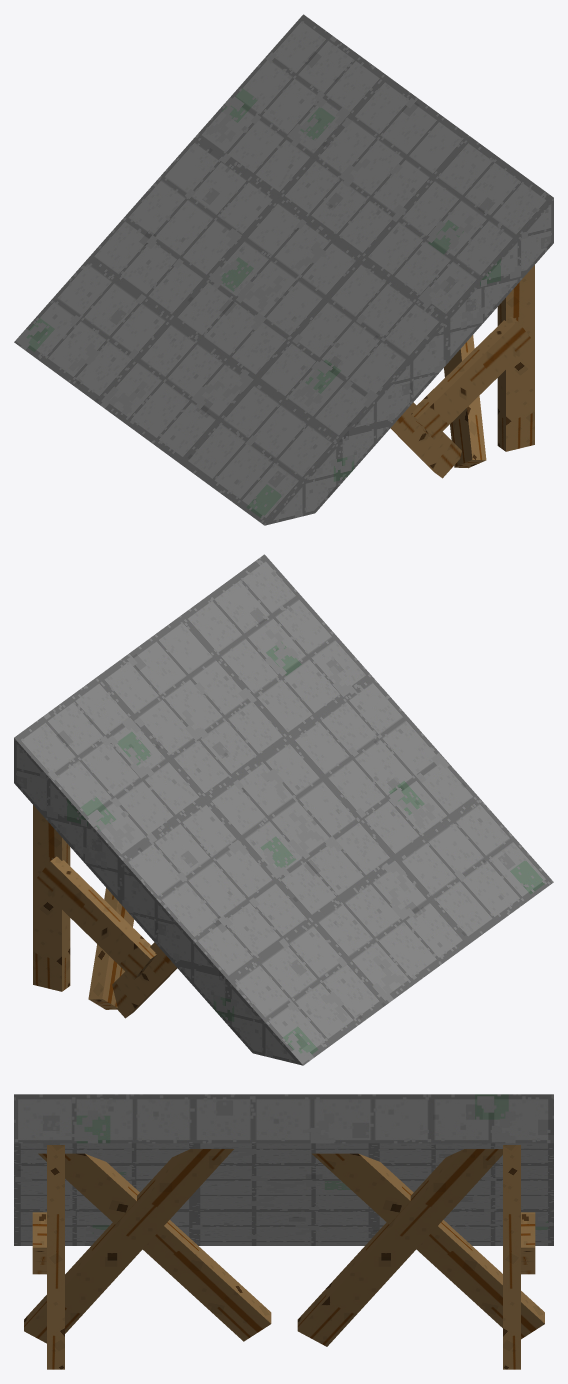
File: C3_TP slope.FBX
3 renders of one model, top to bottom at view 1: azimuth 30°, elevation 25°; view 2: azimuth 150°, elevation 25°; view 3: azimuth 270°, elevation 25°, orthographic. The views are drawn at different scales.
Visible parts, largest first — view 1: C3_TP_slope, Box046, Box044, Box040, Box045; view 2: C3_TP_slope, Box049, Box047, Box048, Box043; view 3: C3_TP_slope, Box042, Box040, Box041, Box043, Box047, Box044, Box049, Box046.
Part boxes in pixels (x1=…): C3_TP_slope: x1=14, y1=14, x2=553, y2=525; Box046: x1=411, y1=316, x2=533, y2=439; Box044: x1=497, y1=265, x2=534, y2=451; Box040: x1=444, y1=335, x2=486, y2=468; Box045: x1=390, y1=402, x2=461, y2=478; C3_TP_slope: x1=14, y1=554, x2=553, y2=1065; Box049: x1=34, y1=856, x2=156, y2=979; Box047: x1=33, y1=805, x2=70, y2=991; Box048: x1=112, y1=942, x2=177, y2=1018; Box043: x1=88, y1=887, x2=134, y2=1009; C3_TP_slope: x1=14, y1=1094, x2=553, y2=1245; Box042: x1=297, y1=1149, x2=502, y2=1346; Box040: x1=24, y1=1149, x2=233, y2=1343; Box041: x1=38, y1=1153, x2=271, y2=1341; Box043: x1=312, y1=1153, x2=544, y2=1339; Box047: x1=503, y1=1145, x2=520, y2=1369; Box044: x1=47, y1=1145, x2=64, y2=1369; Box049: x1=521, y1=1212, x2=535, y2=1274; Box046: x1=32, y1=1212, x2=46, y2=1274.
Bounding box in the file's own units: 236 × 209 × 354.
Materials: 1 (1 with a texture image).
